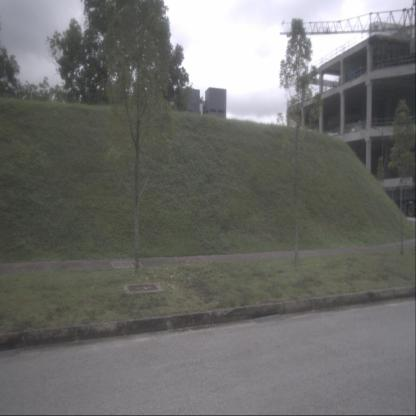vehicle-truck: (370, 188, 416, 216)
